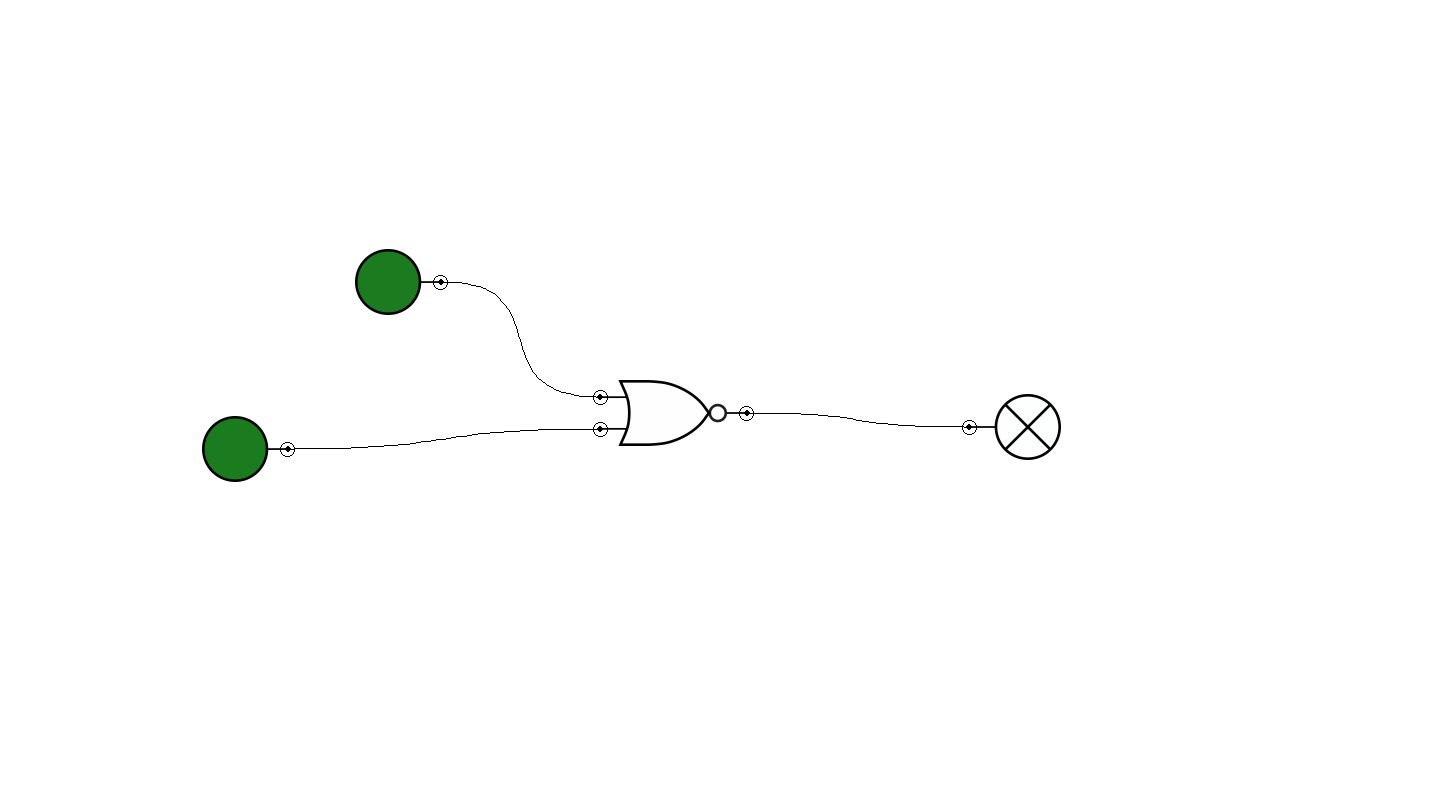bulb: (962, 394, 1061, 460)
nor: (593, 380, 754, 446)
switch_True: (202, 416, 295, 482), (355, 249, 448, 315)
